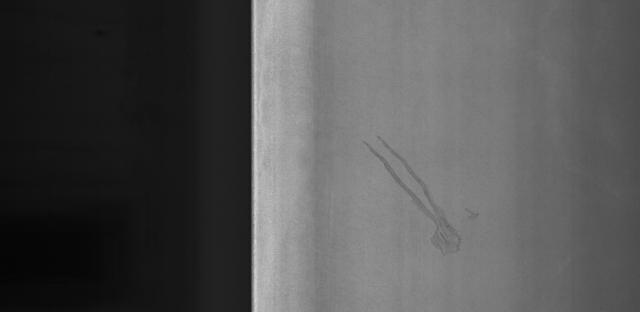water_spot: (357, 128, 495, 256)
